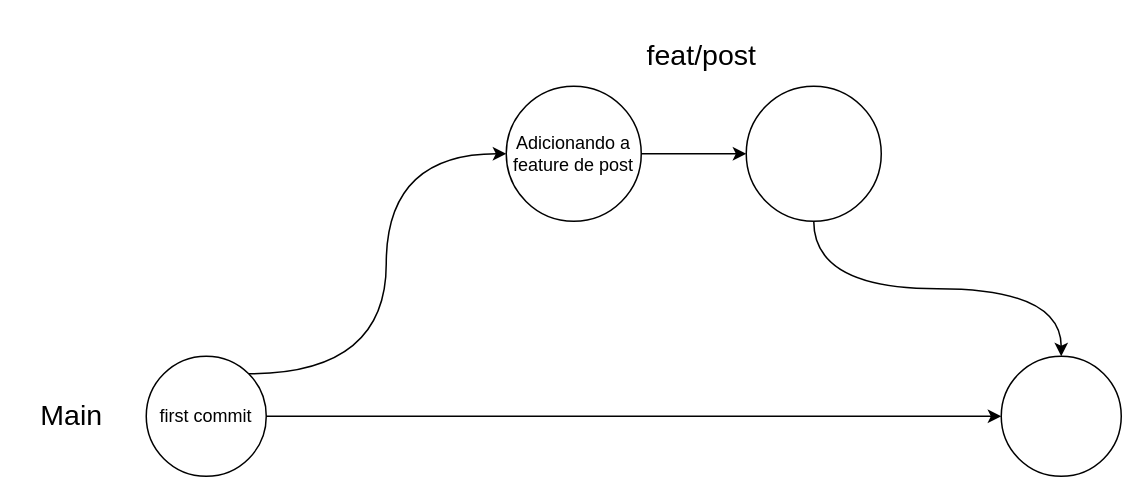
The diagram is 1148 pixels wide and 503 high, and some of its shapes have lost their labels. The centre of each missing label's shape, as x and y in pixels:
Ajustando o README: [813,153]
git merge feat/post: [1060,415]
